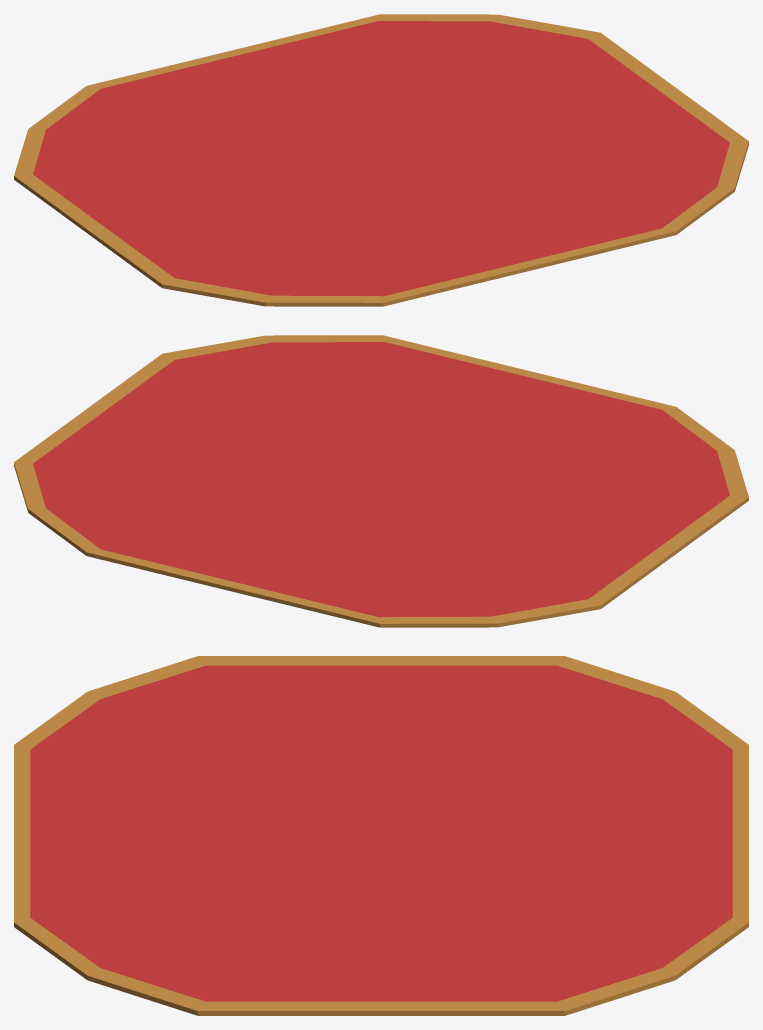
The model's file is Rug.fbx.
3 views of the same model, one above another, from view 1: azimuth 30°, elevation 25°; view 2: azimuth 150°, elevation 25°; view 3: azimuth 270°, elevation 25° (orthographic). The views are drawn at different scales.
Visible parts, largest first — view 1: Rug; view 2: Rug; view 3: Rug.
Part boxes in pixels (<box>): Rug: <box>14,14,748,306</box>; Rug: <box>14,335,748,627</box>; Rug: <box>14,656,748,1015</box>.
Bounding box in the file's own units: 32 × 0.2 × 28.
